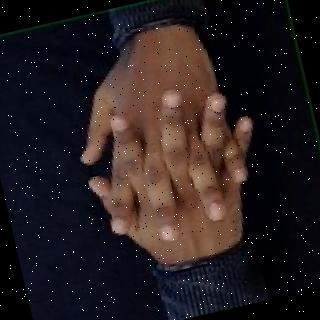W: (36, 18, 279, 279)
